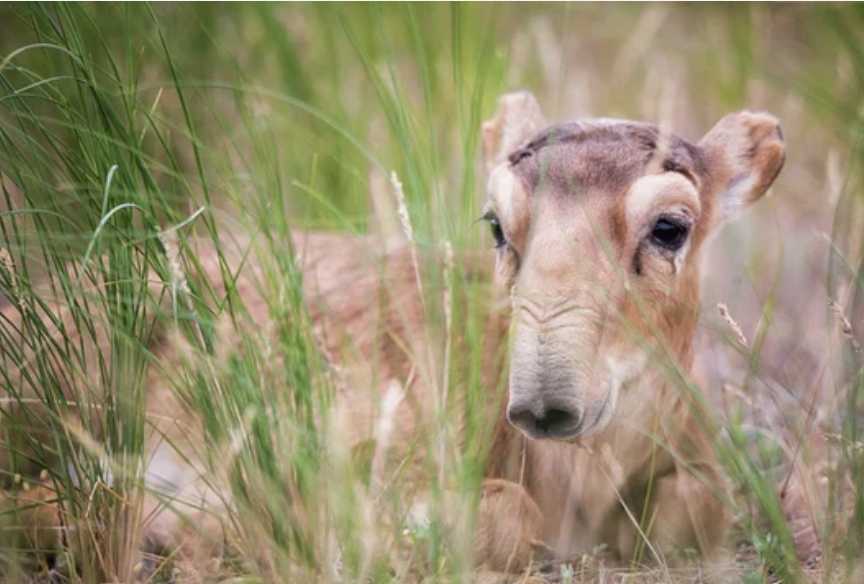saiga: (84, 111, 786, 513)
